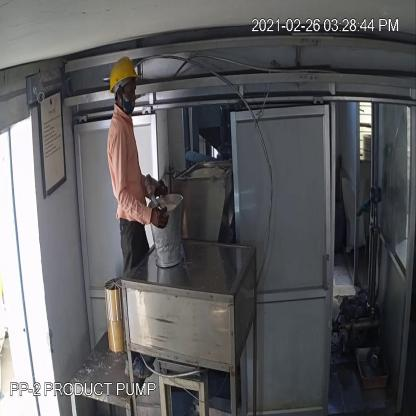helmet: (104, 54, 146, 94)
